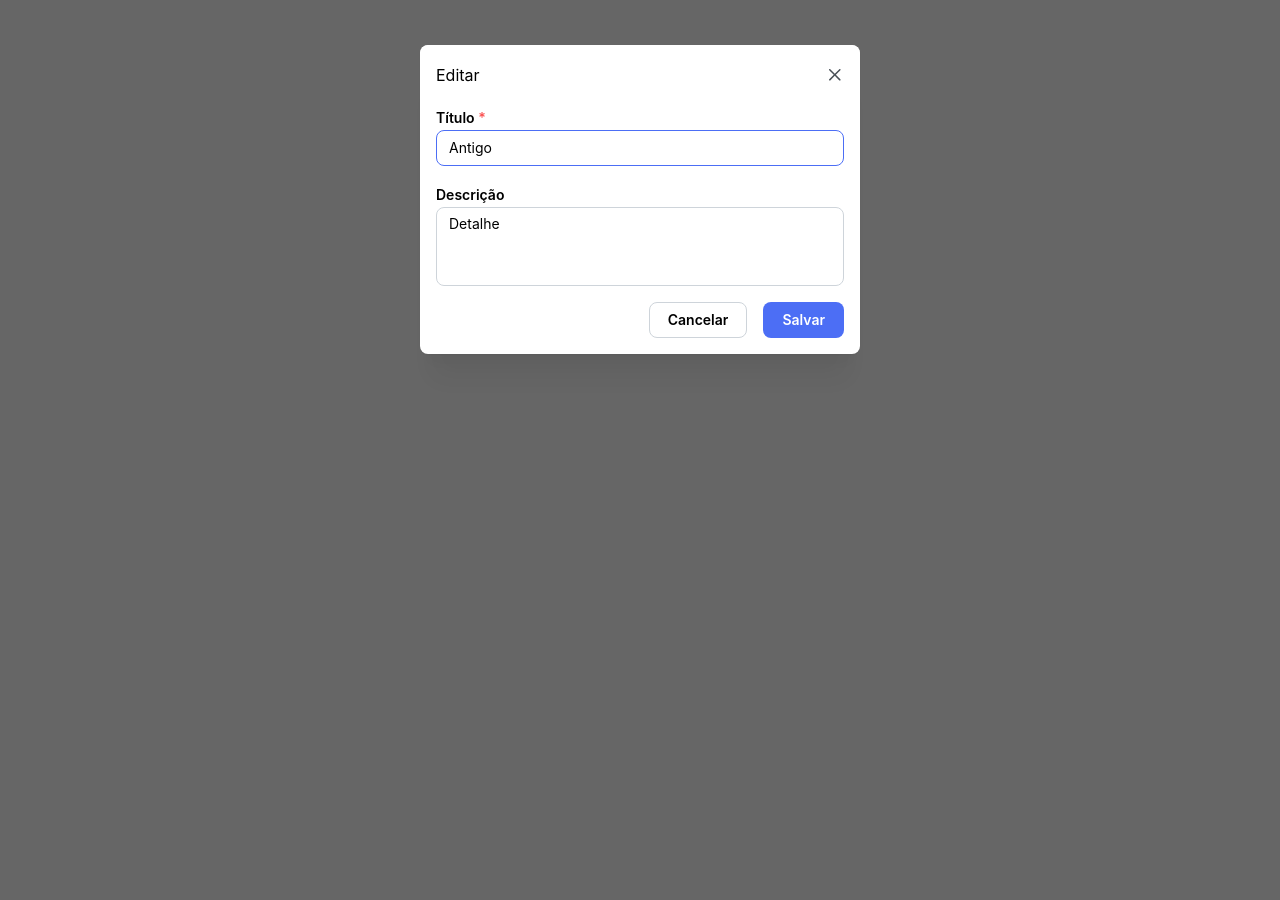
Test case: TodoFormModal › edita preenchendo os dados atuais e envia PUT
The image size is (1280, 900).
Expected: the text box labelled "Descrição" holds "Detalhe", [436,207,844,286]
Replace the text in the field labelled "Título *" with "Novo". click: (640, 148)
box: [436,130,844,166]
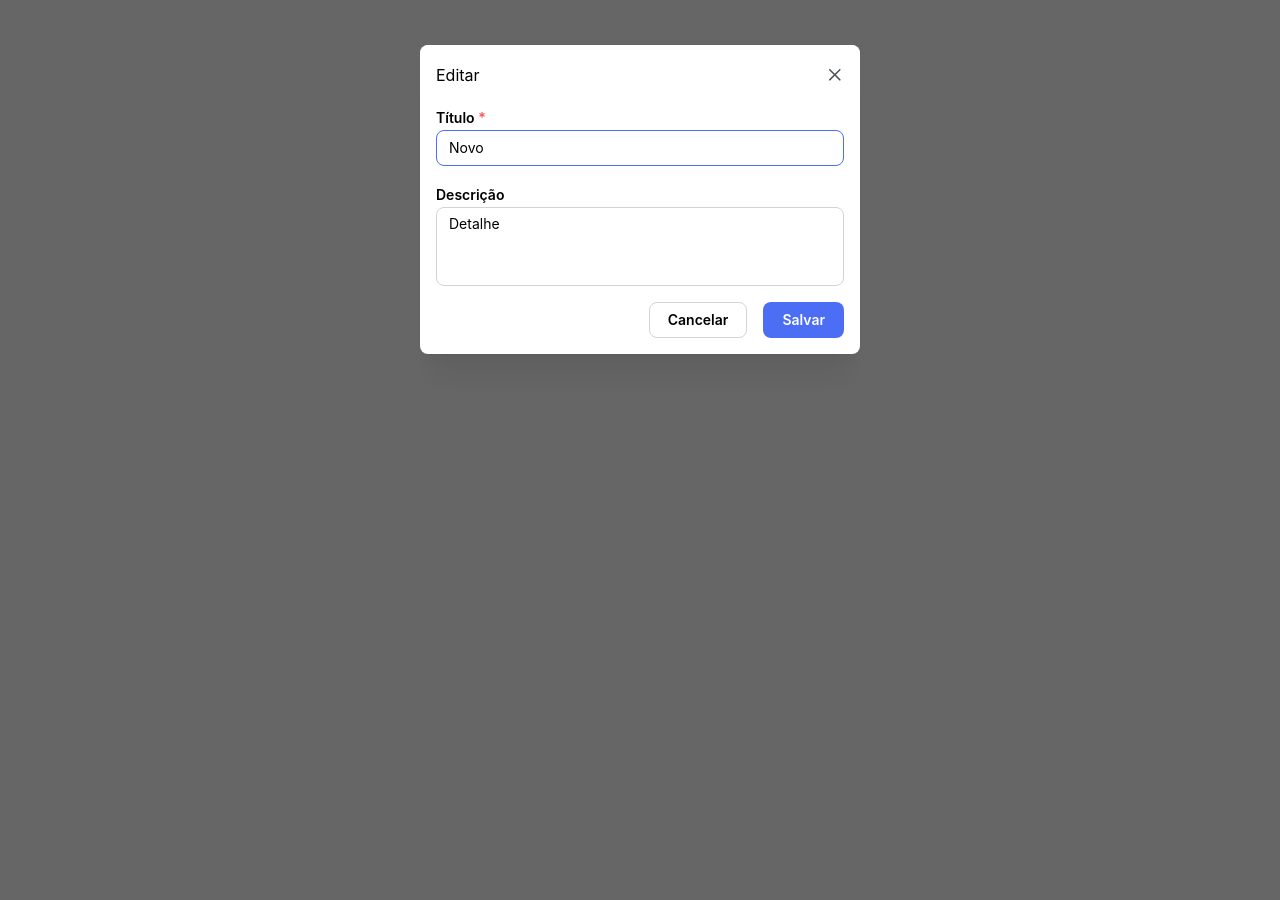
Click the button "Salvar". click: (804, 320)
box: [763,302,844,338]
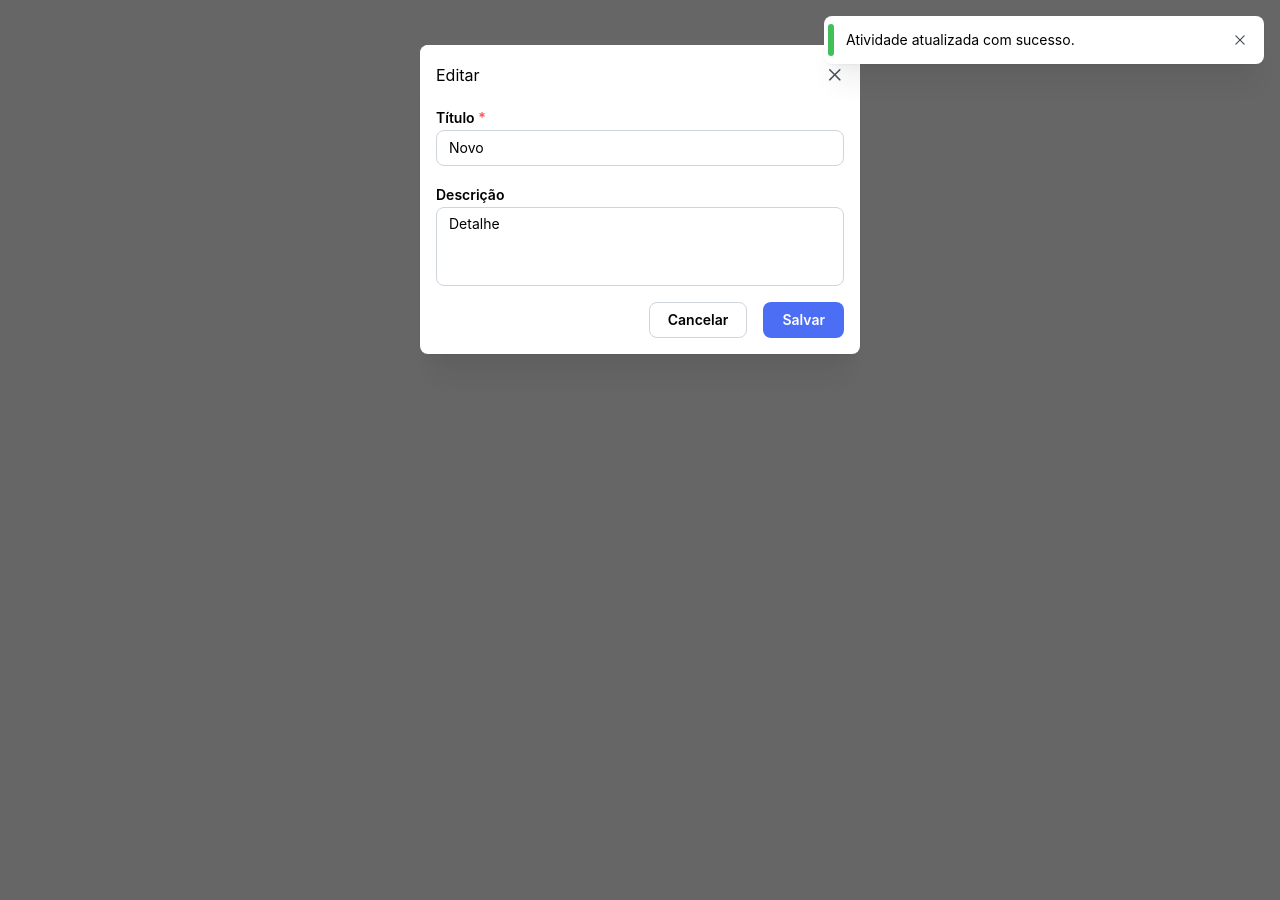
Result: the text "Atividade atualizada com sucesso." is shown at [846,31,1075,48]
